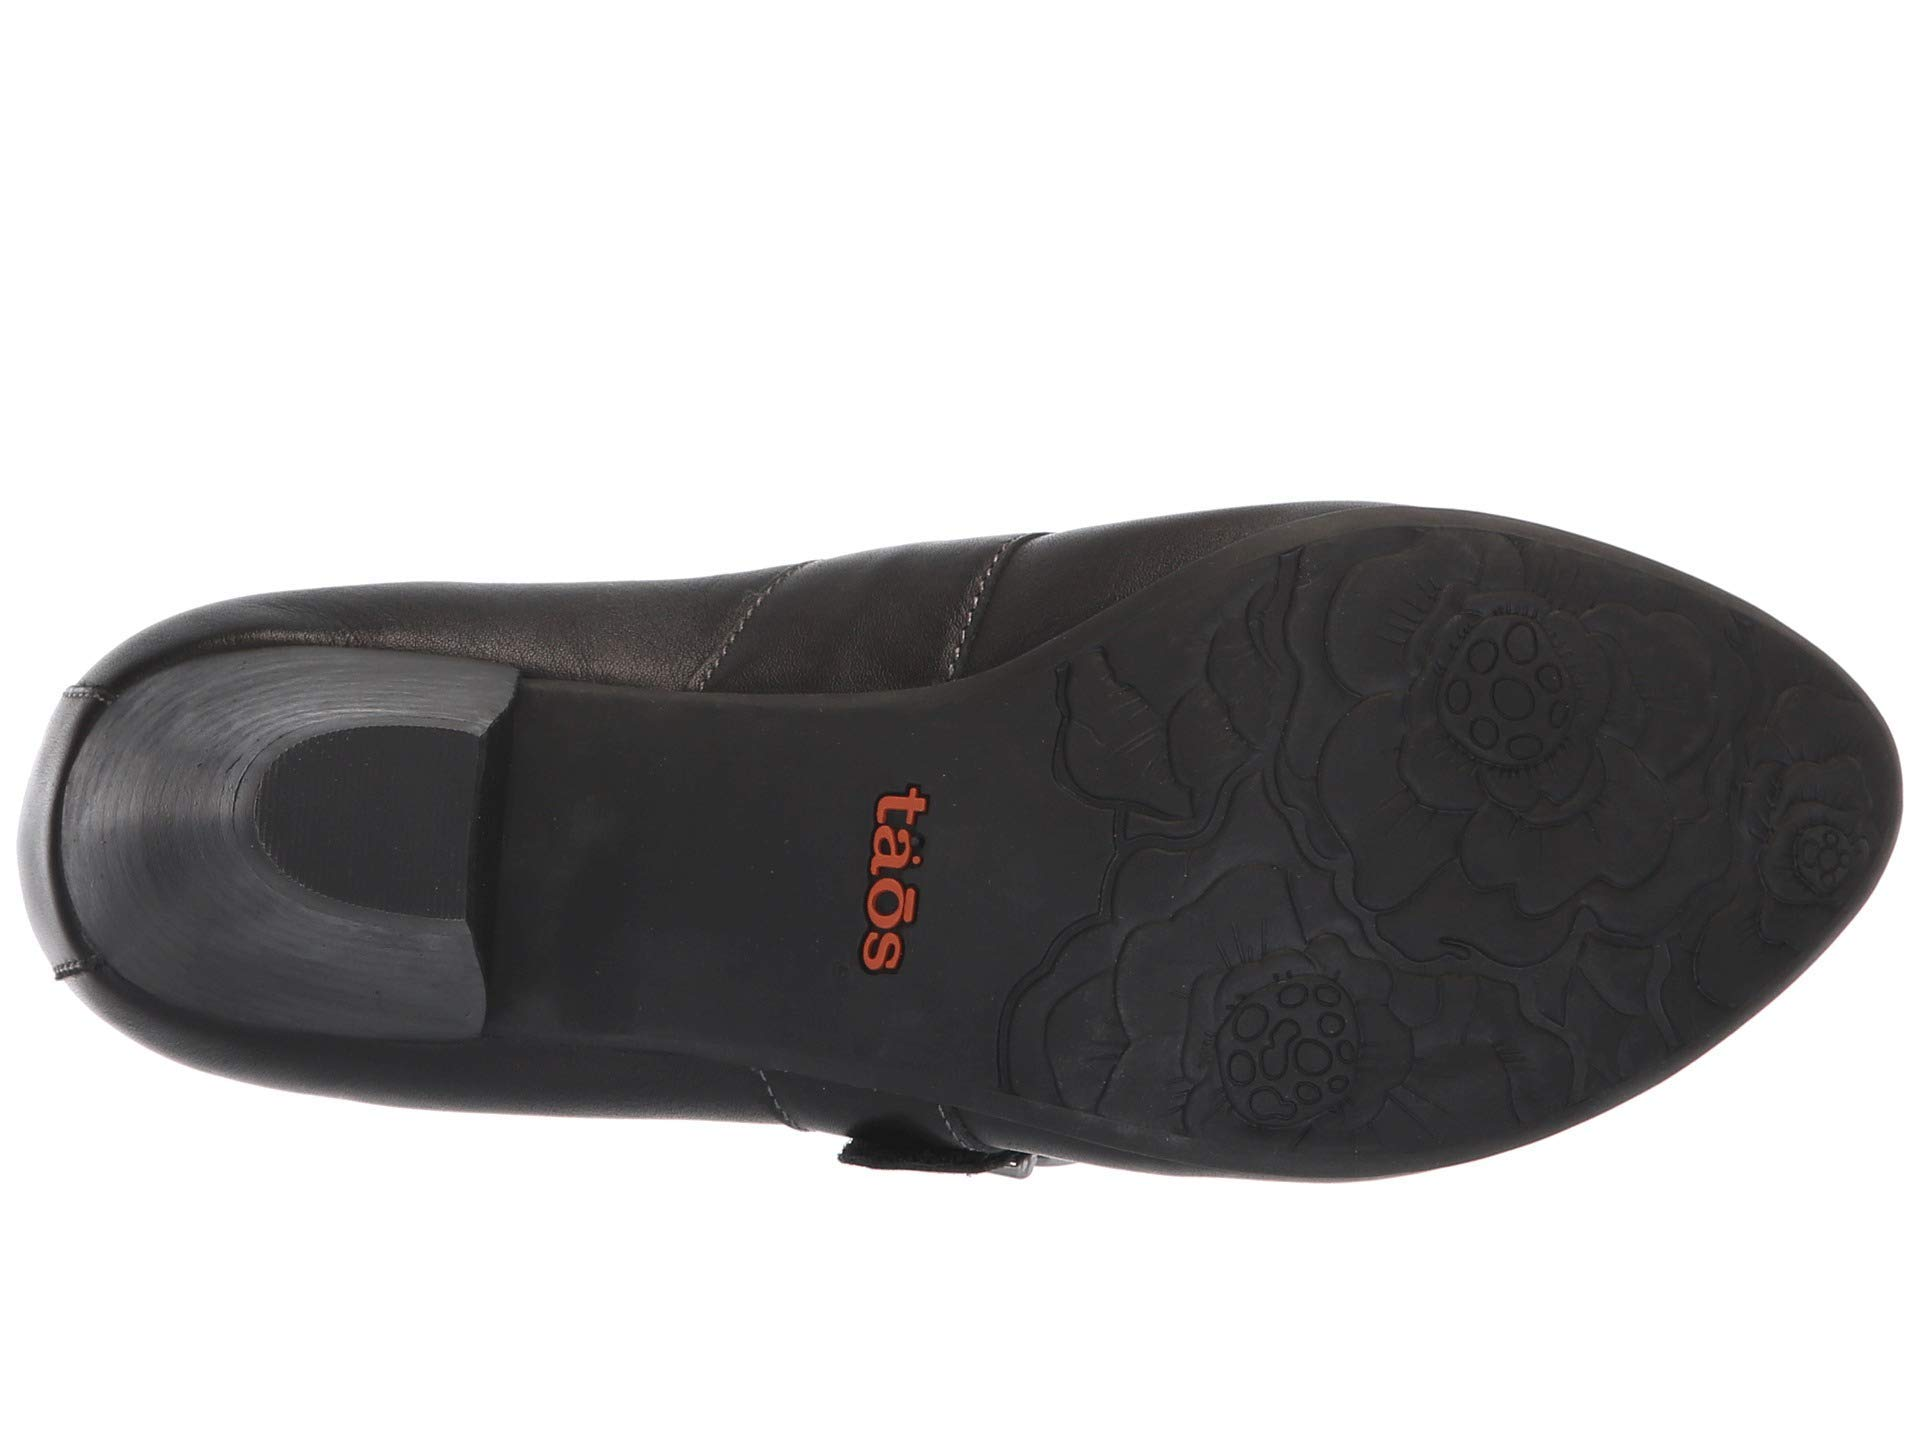circle: (1442, 614, 1569, 771), (1238, 992, 1364, 1122), (1795, 811, 1863, 905)
